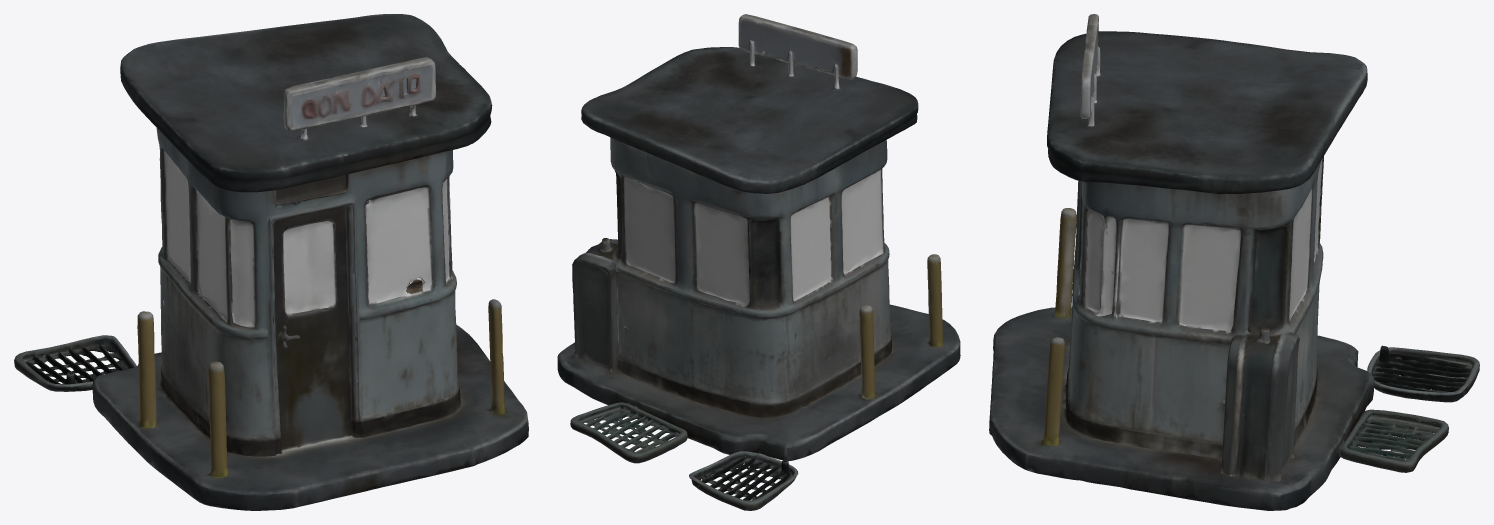
Rendered from sun-gate-toll-booth.glb.
The picture shows the model from 3 angles, left to right: view 1: azimuth 30°, elevation 25°; view 2: azimuth 150°, elevation 25°; view 3: azimuth 270°, elevation 25°; orthographic projection. The views are drawn at different scales.
Bounding box in the file's own units: 0.7672 × 0.7991 × 0.9099.
1 material, 1 textured.
